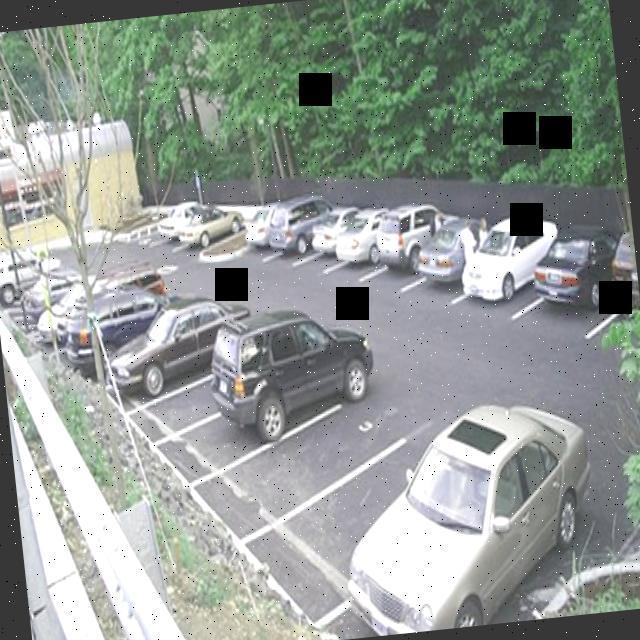car: (348, 434, 599, 636), (173, 342, 349, 474), (516, 221, 628, 346), (113, 298, 249, 400), (453, 209, 555, 333), (68, 281, 182, 373), (47, 270, 148, 362), (410, 202, 492, 310), (366, 200, 450, 292), (584, 227, 640, 365), (26, 274, 116, 352), (324, 200, 394, 289), (253, 191, 327, 272), (294, 196, 361, 278), (12, 271, 84, 337), (0, 240, 56, 316), (177, 200, 243, 258), (240, 195, 286, 267), (155, 198, 198, 246)
free: (250, 420, 444, 606), (218, 396, 380, 530), (138, 340, 250, 440), (130, 196, 179, 248)
